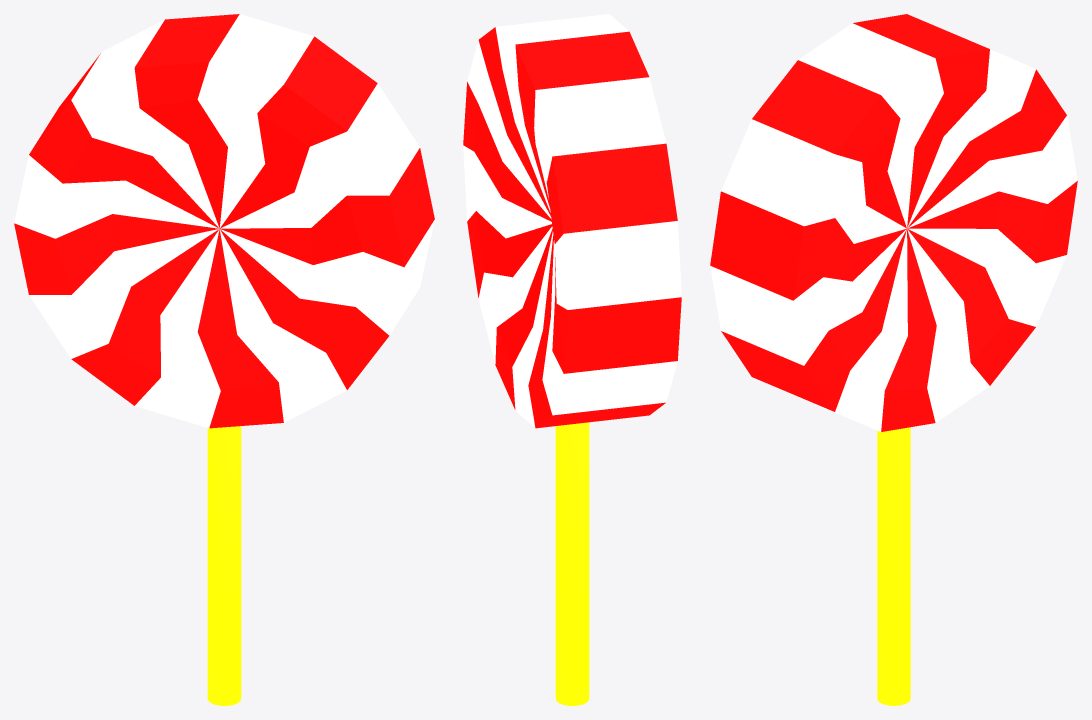
File: lollipop.gltf
The picture shows the model from 3 angles, left to right: view 1: azimuth 30°, elevation 25°; view 2: azimuth 150°, elevation 25°; view 3: azimuth 270°, elevation 25°; orthographic projection.
Parts seen in each view (by area): view 1: Lollipop on stick; view 2: Lollipop on stick; view 3: Lollipop on stick.
Part boxes in pixels (x1,y1,x2,y2): Lollipop on stick: (14,14,434,705); Lollipop on stick: (463,14,681,705); Lollipop on stick: (710,14,1077,705).
Size of the model in its own units: 0.3367 by 0.665 by 0.3367.
